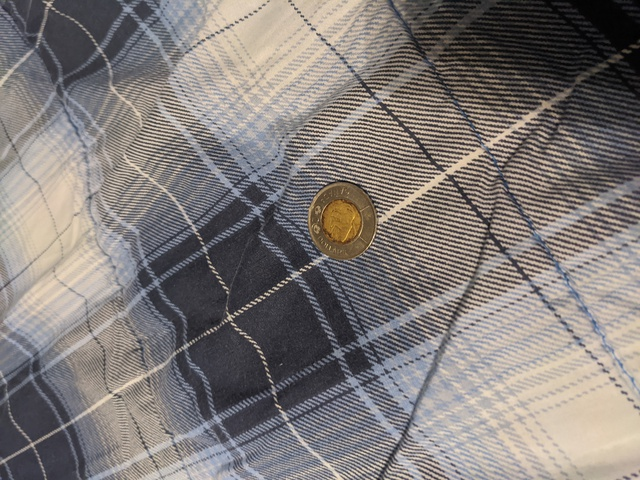twonie: (304, 179, 383, 263)
